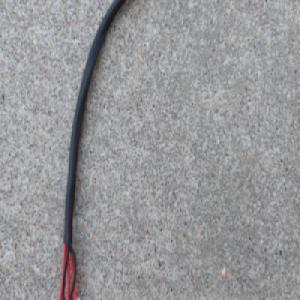Wire: (55, 0, 128, 300)
